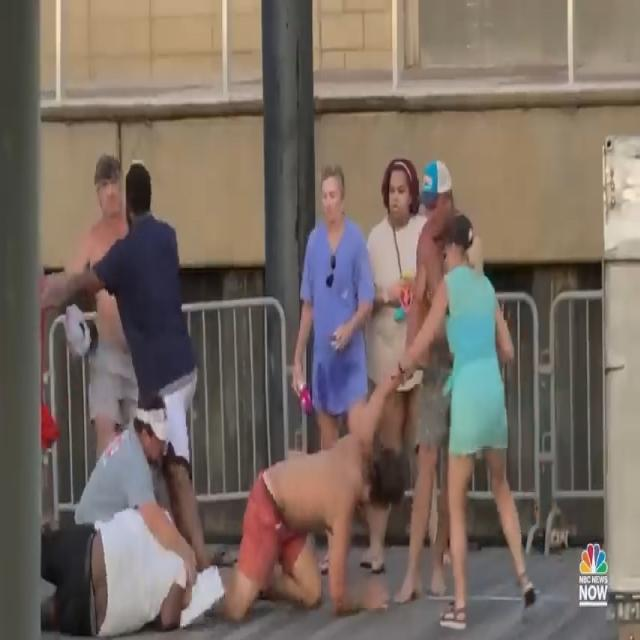fight: (42, 151, 216, 640)
non-fight: (232, 151, 533, 630)
